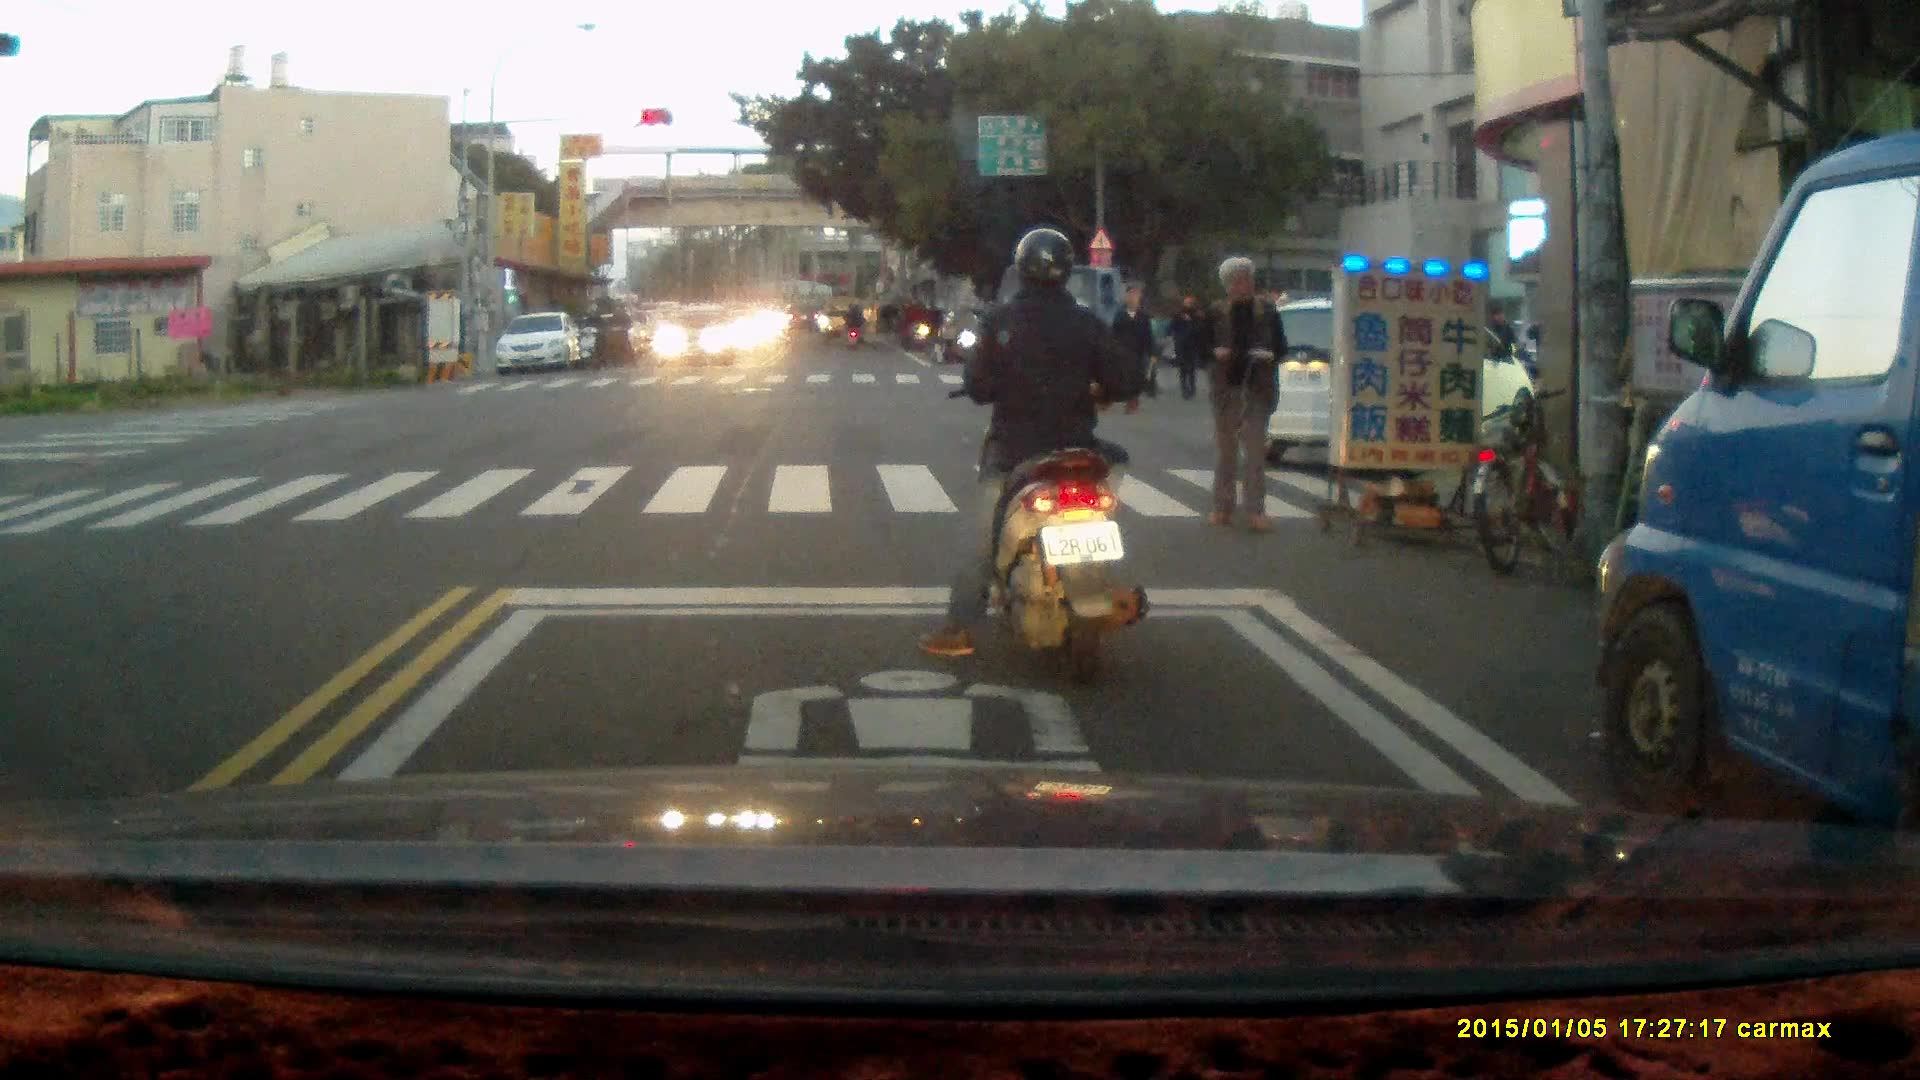pedestrian: (1197, 252, 1295, 531), (1106, 274, 1161, 418), (1166, 288, 1199, 399), (1486, 304, 1517, 395)
rider: (918, 225, 1149, 689), (941, 297, 981, 363), (577, 301, 612, 372), (600, 297, 634, 367), (899, 296, 928, 355), (841, 297, 867, 350)
vehicle: (1596, 120, 1920, 901), (1236, 303, 1533, 462), (951, 264, 1171, 404), (652, 297, 744, 368), (493, 311, 584, 378), (818, 294, 859, 340)
